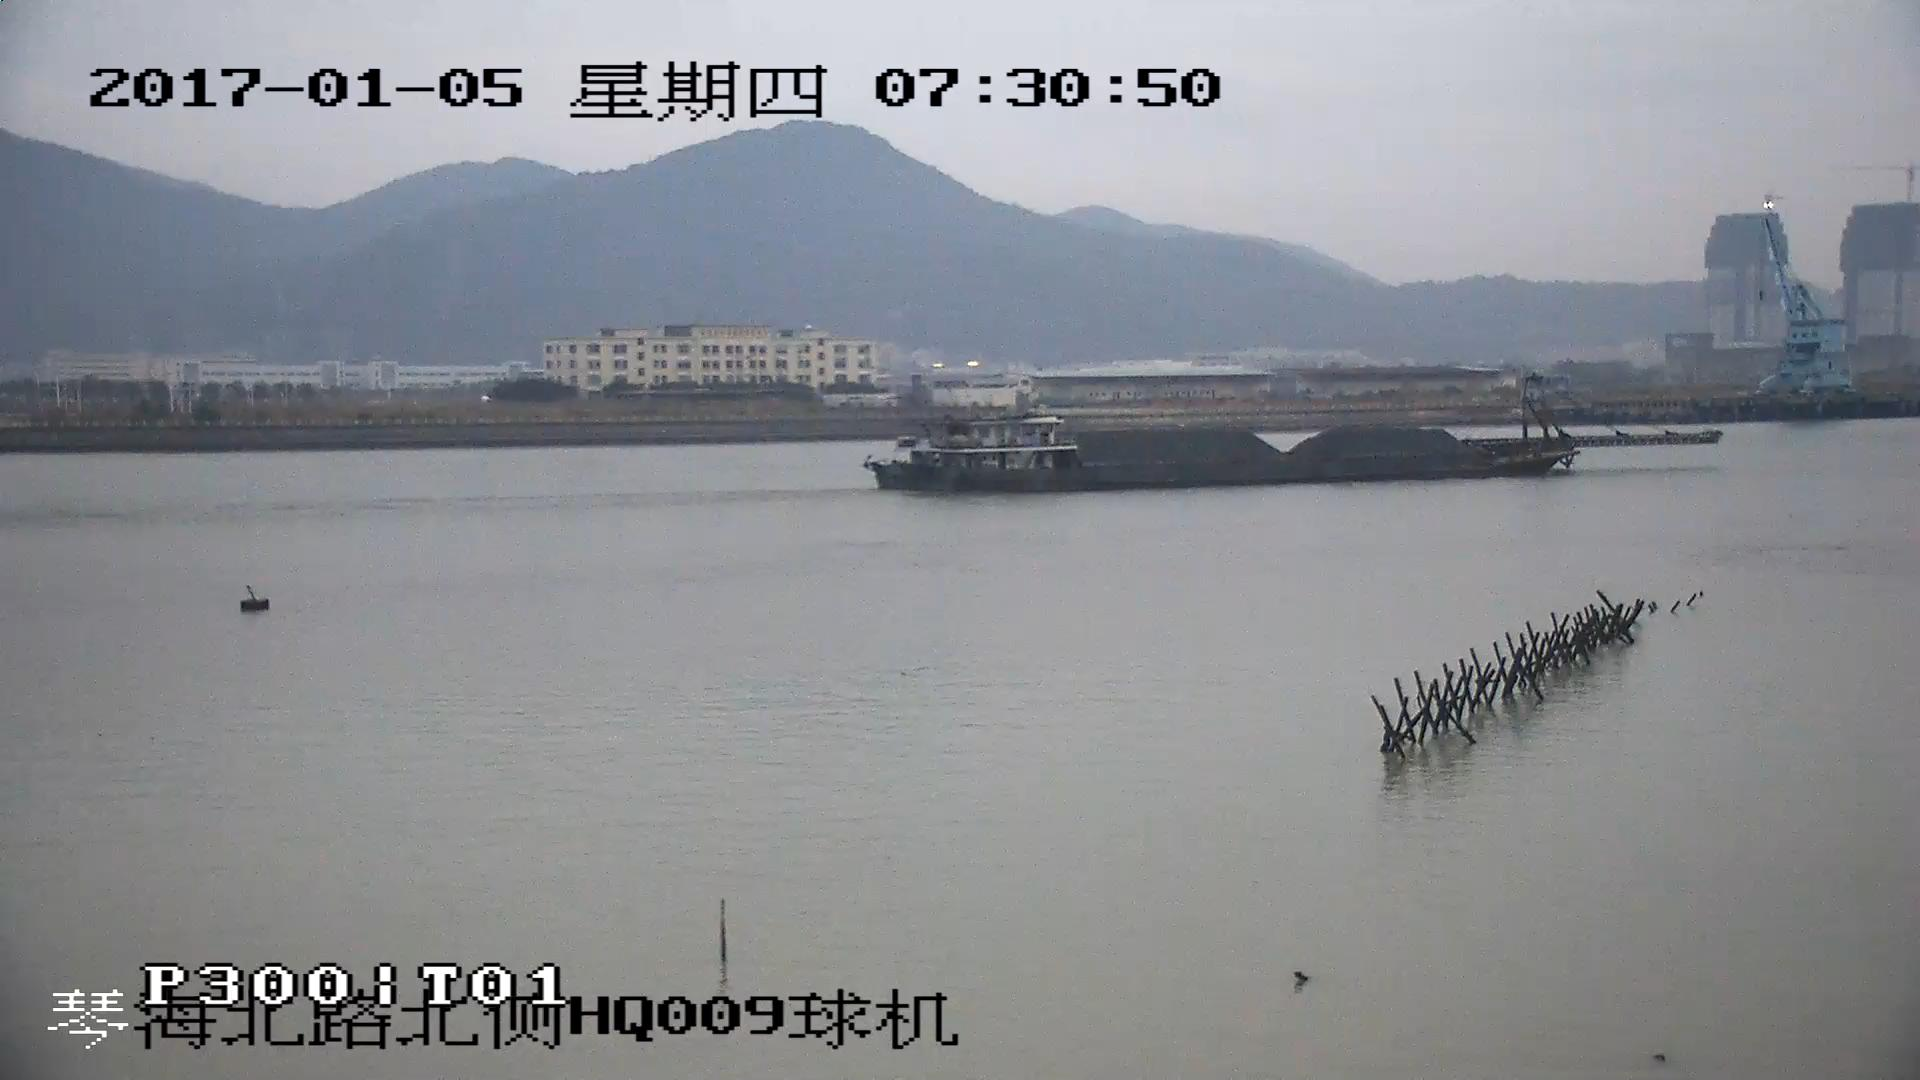ore carrier: (872, 382, 1719, 494)
